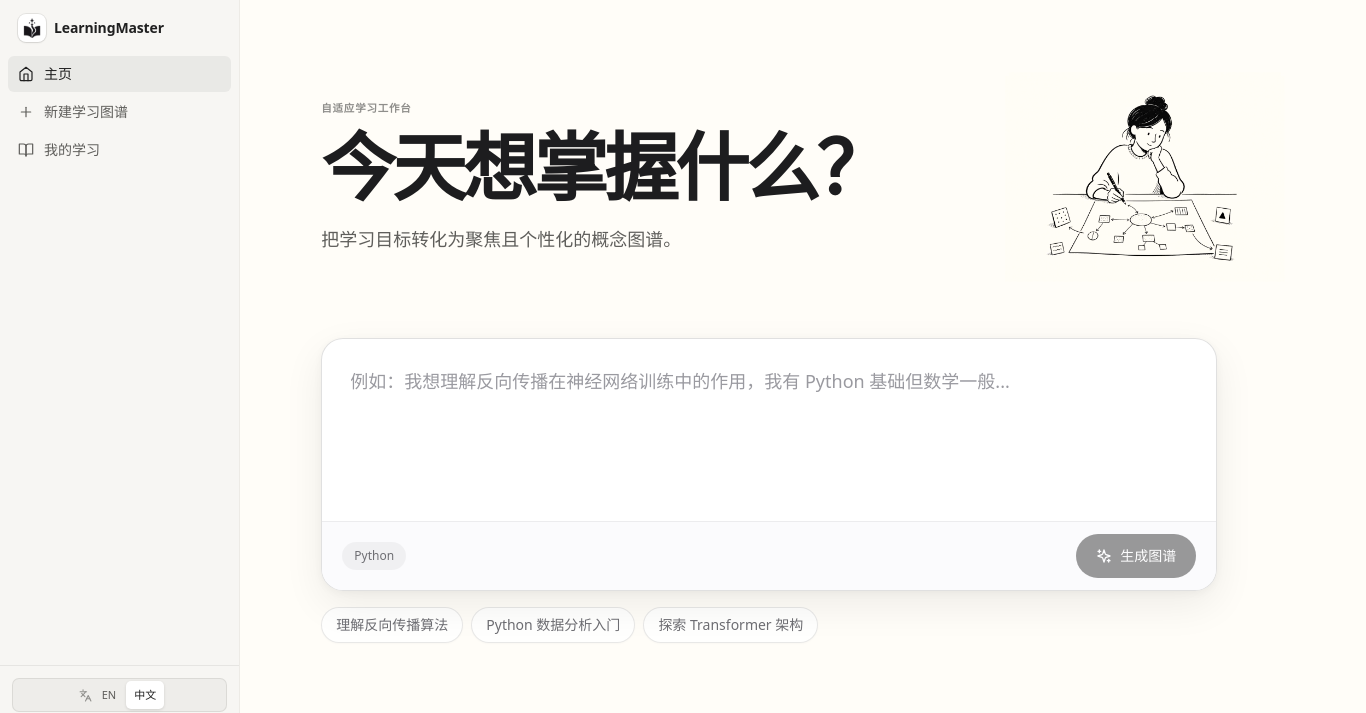
Scenario: HomePage loading scenes › shows the graph generation loader after confirmation
Type "layer normalization" into the text box at (769, 427), box [322,339,1216,515]
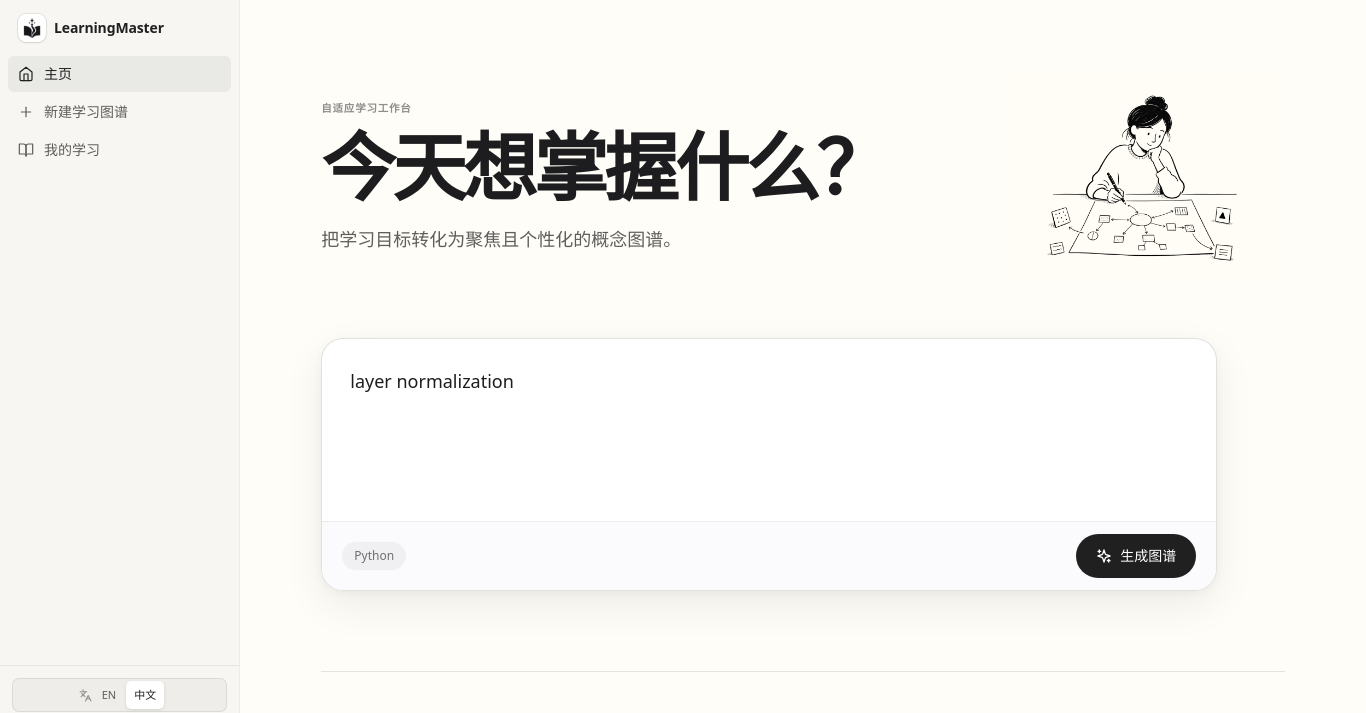
Click the button "生成图谱" at (1136, 556), box [1076,534,1196,578]
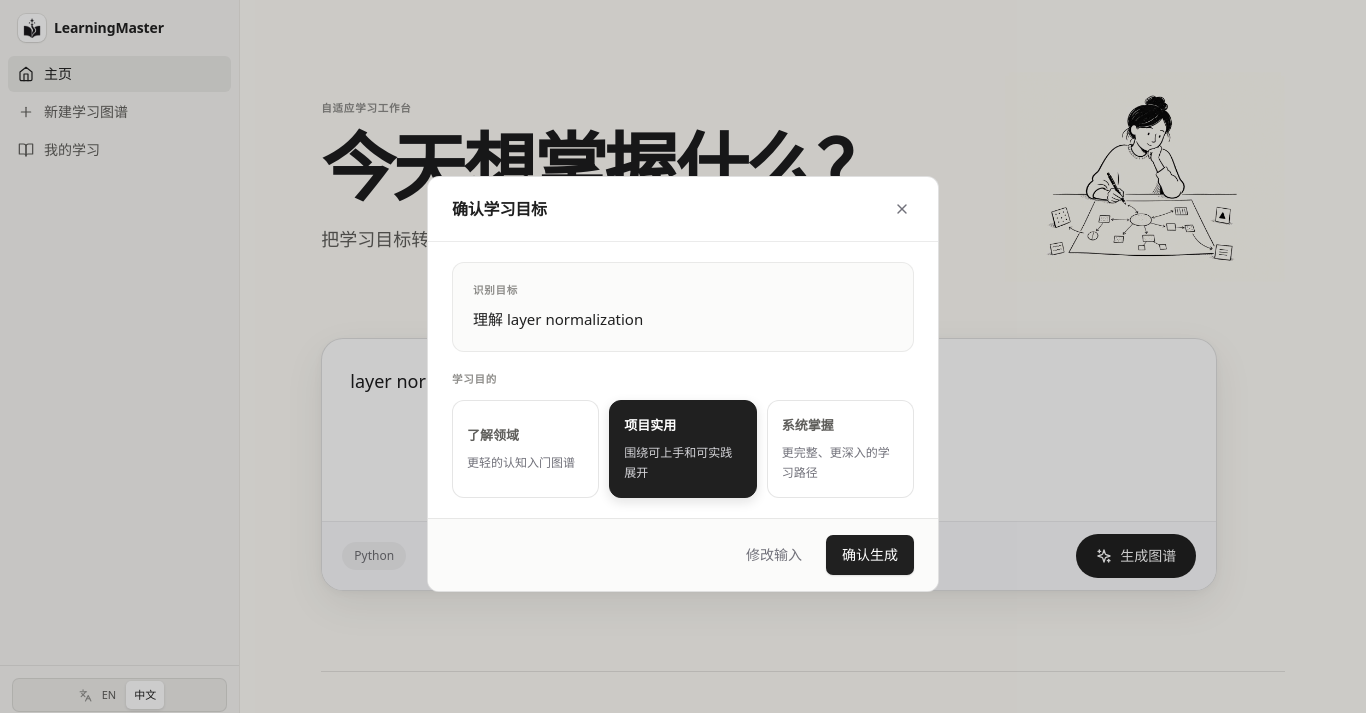
Expected: the text "理解 layer normalization" is shown, [473,309,643,329]
Click the button "确认生成" at (870, 555), box [826,535,914,575]
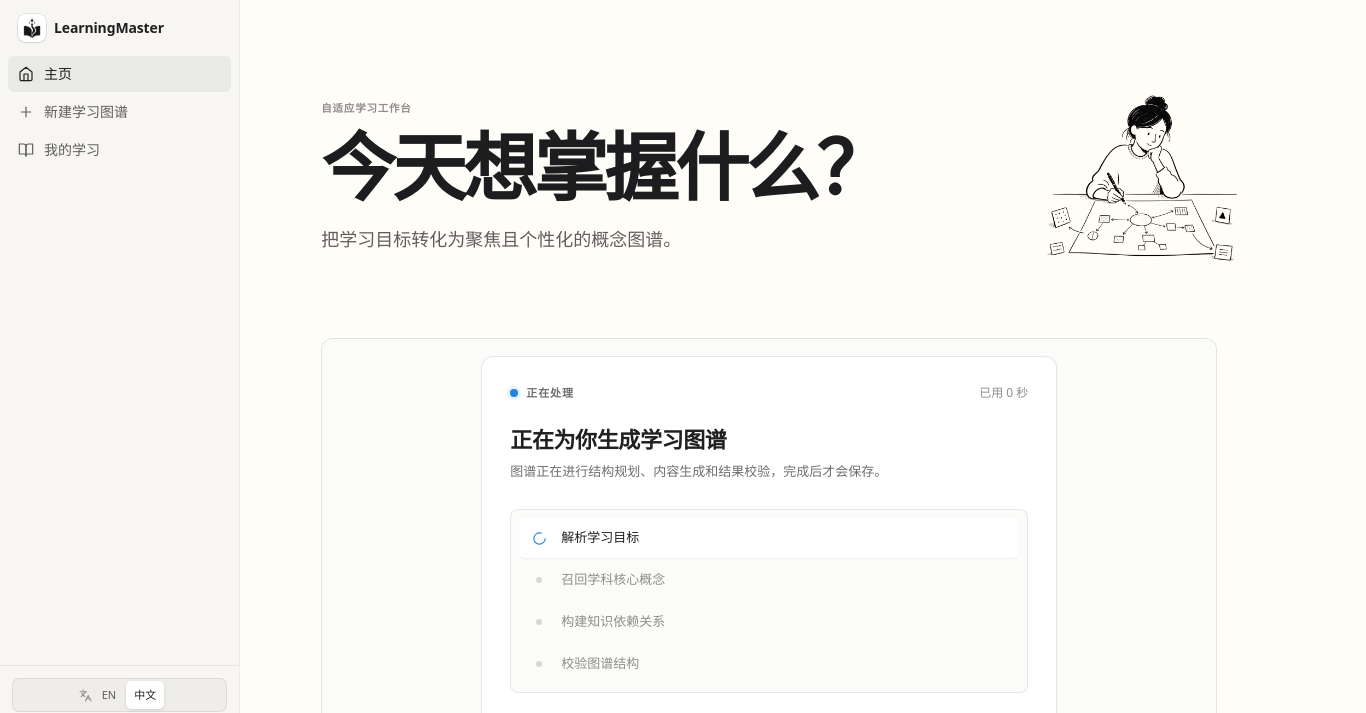
Expected: the heading "正在为你生成学习图谱" is shown, [510,424,726,454]
Expected: the text "解析学习目标" is shown, [561,528,639,548]
